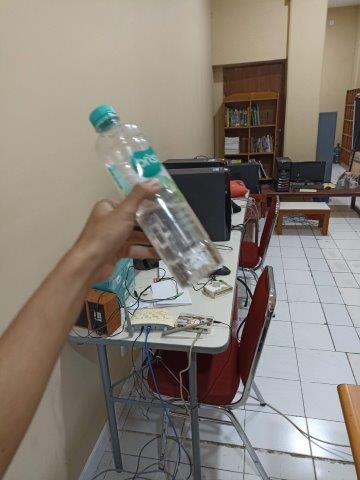botolplastik: (90, 104, 225, 290)
